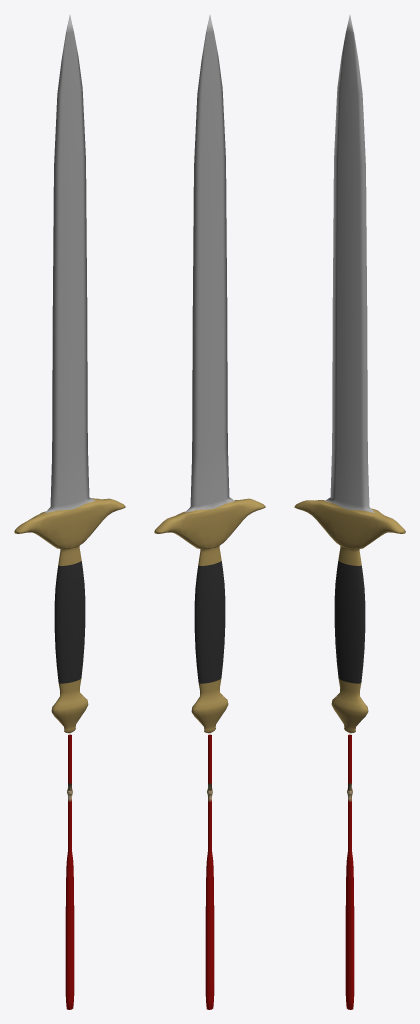
The model's file is Sword.fbx.
3 renders of one model, left to right at view 1: azimuth 30°, elevation 25°; view 2: azimuth 210°, elevation 25°; view 3: azimuth 330°, elevation 25°, orthographic.
Parts seen in each view (by area): view 1: Sword; view 2: Sword; view 3: Sword.
Boxes of the visible parts, x1=… form: Sword: x1=14, y1=15, x2=125, y2=1009; Sword: x1=154, y1=15, x2=265, y2=1009; Sword: x1=294, y1=15, x2=405, y2=1009.
Size of the model in its own units: 0.1145 by 0.9834 by 0.0147.
5 materials, 1 textured.
